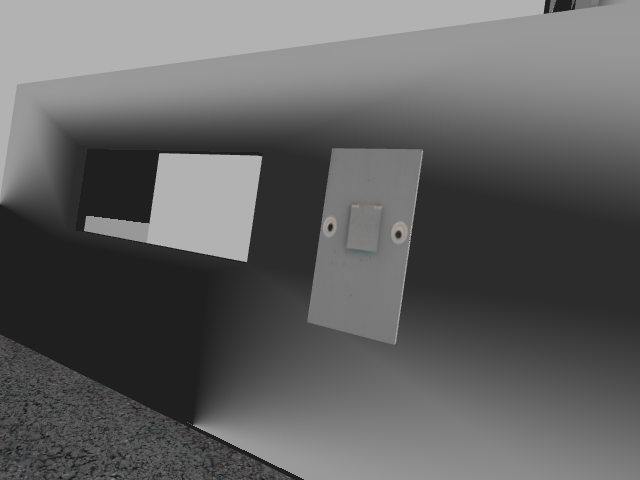facade: (317, 201, 409, 257)
